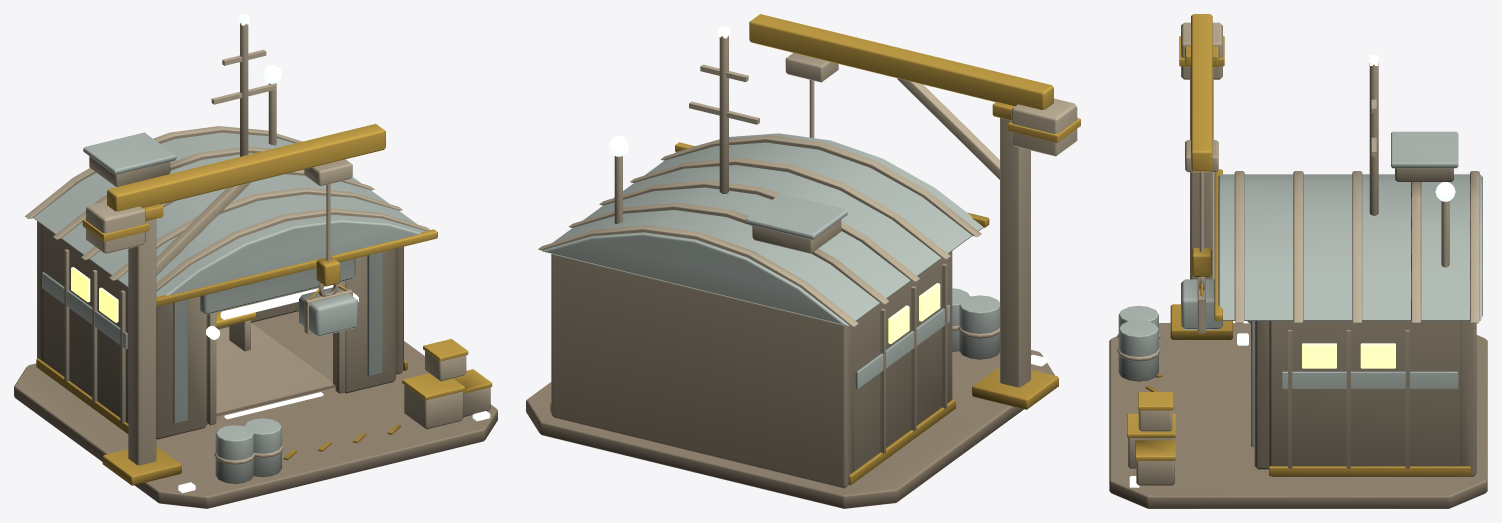
File: workshop.glb
3 renders of one model, left to right at view 1: azimuth 30°, elevation 25°; view 2: azimuth 150°, elevation 25°; view 3: azimuth 270°, elevation 25°, orthographic. The views are drawn at different scales.
Visible parts, largest first — view 1: Platform, Roof, Front_piers, Side_walls, Crane_jib, Roof_ribs, Crane_post, Bay_floor, Pier_trim, Fuel_drums, Crates, Lintel (+21 smaller); view 2: Back_wall, Roof, Platform, Roof_ribs, Side_walls, Crane_jib, Crane_post, Vent_cap, Fuel_drums, Counterweight, Wall_seams, Crane_base (+9 smaller); view 3: Roof, Platform, Side_walls, Roof_ribs, Crane_jib, Wall_band, Fuel_drums, Vent_cap, Back_wall, Front_piers, Wall_footing, Crate_lids (+15 smaller).
Part boxes in pixels (<box>): Platform: <box>14,311,497,508</box>; Roof: <box>33,132,425,296</box>; Front_piers: <box>156,248,395,439</box>; Side_walls: <box>40,225,403,423</box>; Crane_jib: <box>107,124,385,211</box>; Roof_ribs: <box>25,126,430,291</box>; Crane_post: <box>128,219,156,465</box>; Bay_floor: <box>216,323,335,416</box>; Pier_trim: <box>173,252,382,423</box>; Fuel_drums: <box>215,418,281,483</box>; Crates: <box>404,351,490,429</box>; Lintel: <box>200,258,355,314</box>; Back_wall: <box>551,254,854,488</box>; Roof: <box>542,133,983,326</box>; Platform: <box>526,350,1054,508</box>; Roof_ribs: <box>538,135,981,326</box>; Side_walls: <box>854,251,952,470</box>; Crane_jib: <box>749,14,1053,109</box>; Crane_post: <box>1000,118,1030,387</box>; Vent_cap: <box>746,193,847,239</box>; Fuel_drums: <box>952,288,999,359</box>; Counterweight: <box>1011,98,1077,156</box>; Wall_seams: <box>880,263,947,453</box>; Crane_base: <box>972,367,1058,409</box>; Roof: <box>1218,174,1482,320</box>; Platform: <box>1109,323,1487,508</box>; Side_walls: <box>1269,321,1467,476</box>; Roof_ribs: <box>1234,171,1479,323</box>; Crane_jib: <box>1191,14,1212,171</box>; Wall_band: <box>1281,371,1458,388</box>; Fuel_drums: <box>1118,305,1158,381</box>; Vent_cap: <box>1391,131,1458,168</box>; Back_wall: <box>1460,321,1476,476</box>; Front_piers: <box>1254,321,1268,469</box>; Wall_footing: <box>1269,466,1470,476</box>; Crate_lids: <box>1127,392,1175,460</box>.
Size of the model in its own units: 5.46 by 4.97 by 4.5.
